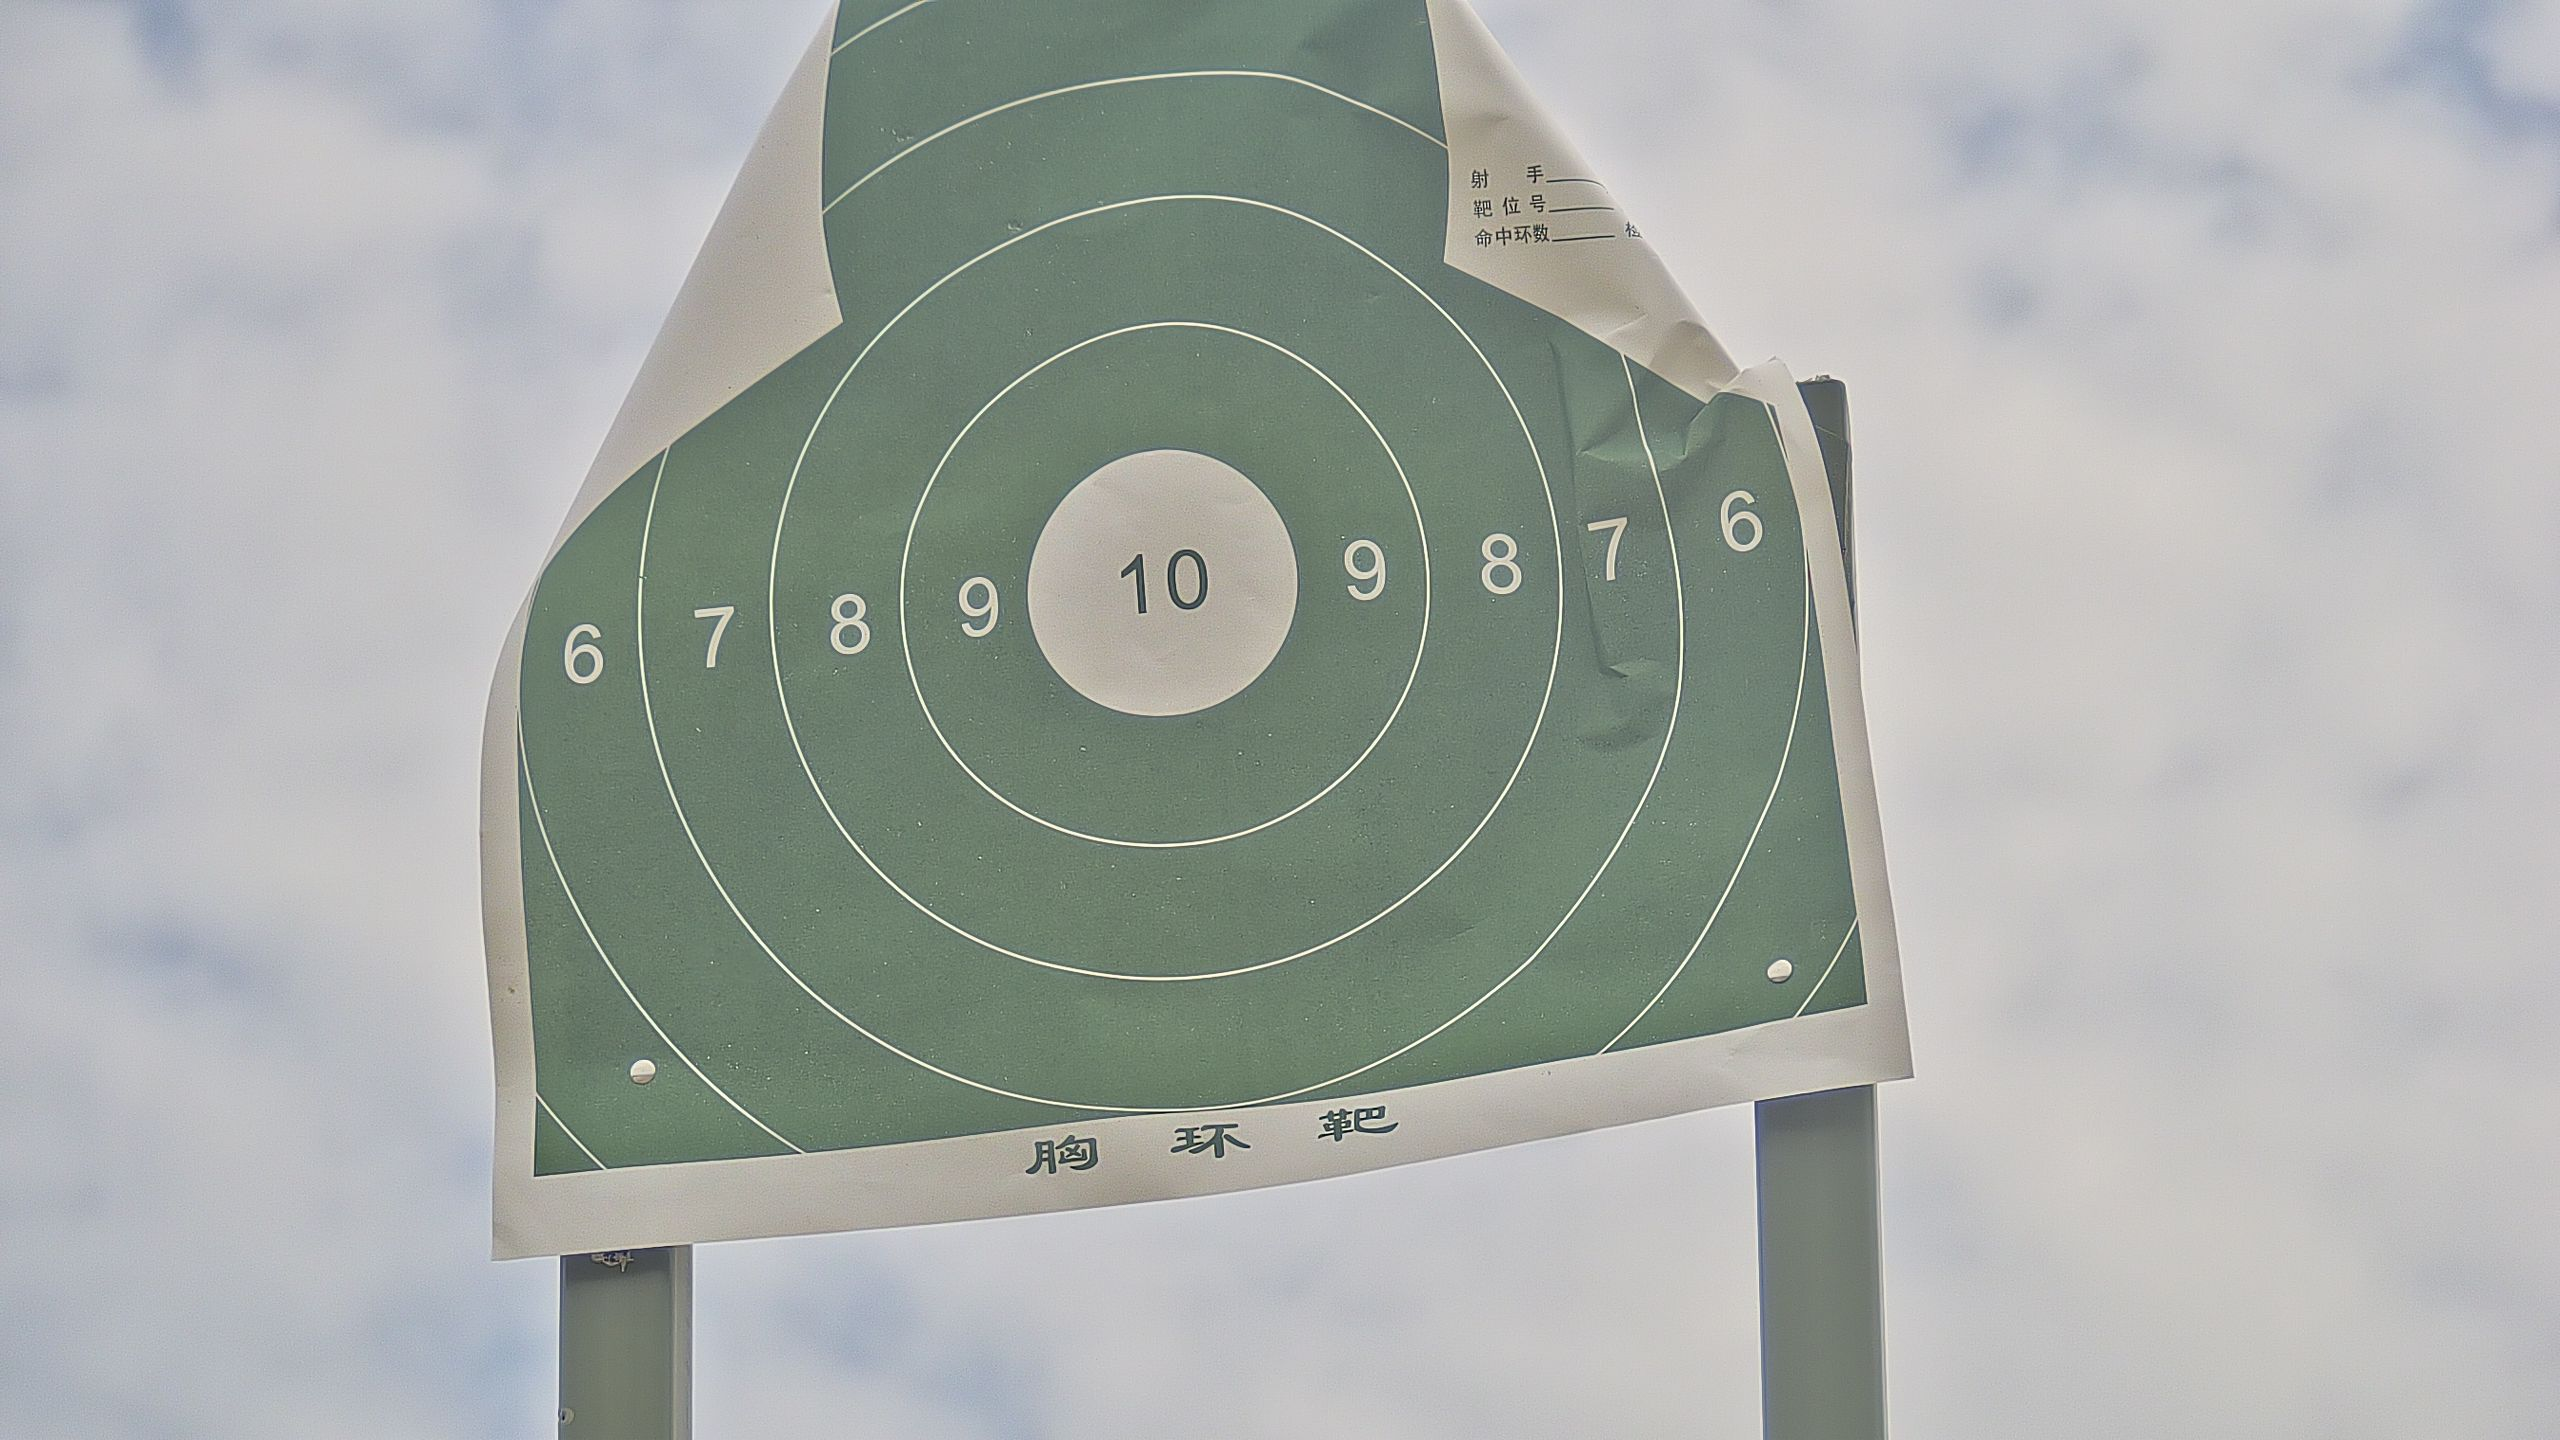kernel: (1159, 584, 1164, 591)
target: (517, 2, 1883, 1178)
ten: (1027, 452, 1310, 719)
